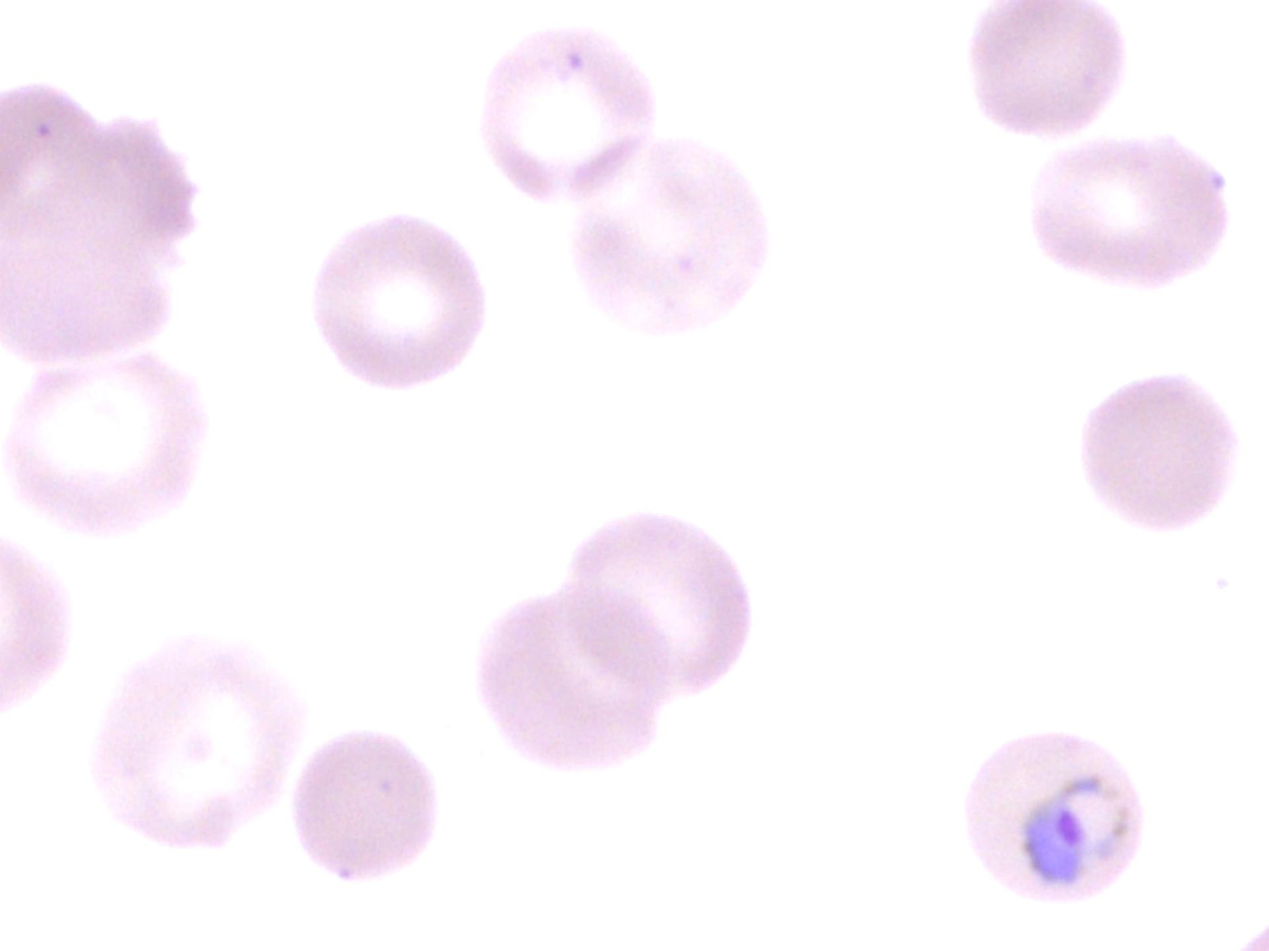Infected: (963, 721, 1141, 912)
Uninfected: (2, 93, 185, 365), (90, 648, 305, 847), (573, 135, 762, 331), (482, 591, 667, 766), (7, 364, 204, 528), (573, 507, 748, 691), (308, 212, 486, 389), (480, 27, 654, 192), (1042, 129, 1225, 277), (1086, 375, 1235, 533), (295, 730, 438, 878), (969, 1, 1121, 136)
